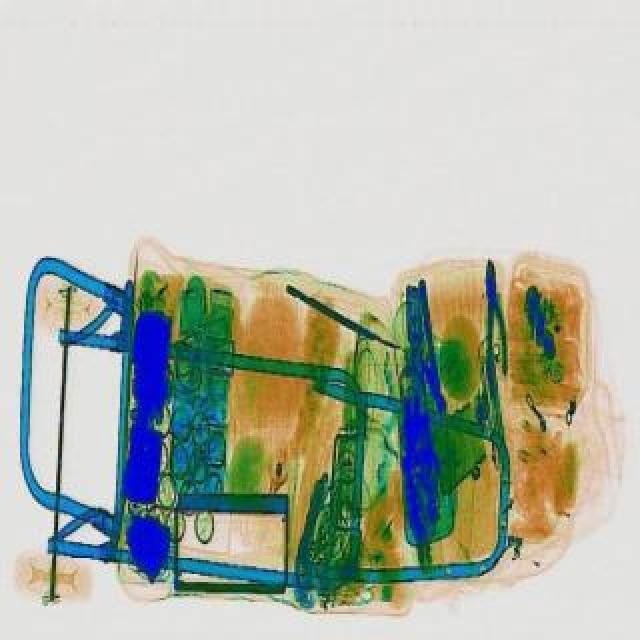wrench: (480, 258, 512, 394)
